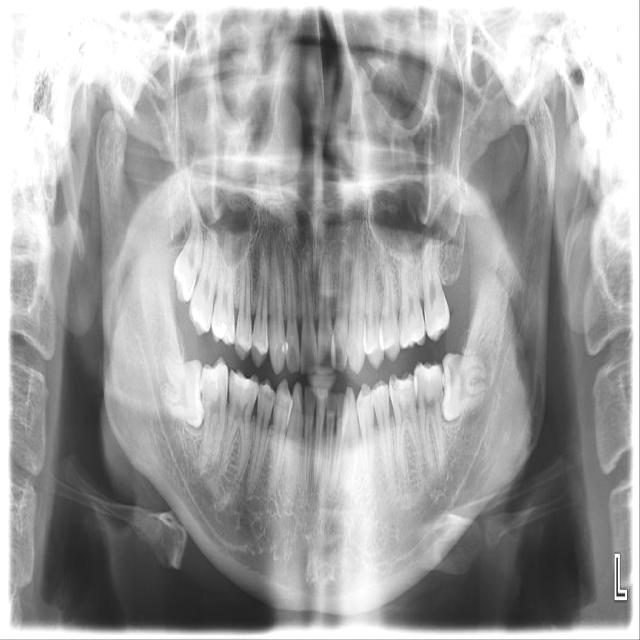Filling: (203, 365, 226, 389), (209, 320, 230, 341), (391, 376, 414, 391), (234, 373, 251, 387)
Periapical lesion: (206, 477, 220, 499), (242, 485, 256, 504)
impacted tooth: (439, 354, 494, 422), (157, 352, 205, 428), (172, 194, 202, 299)
